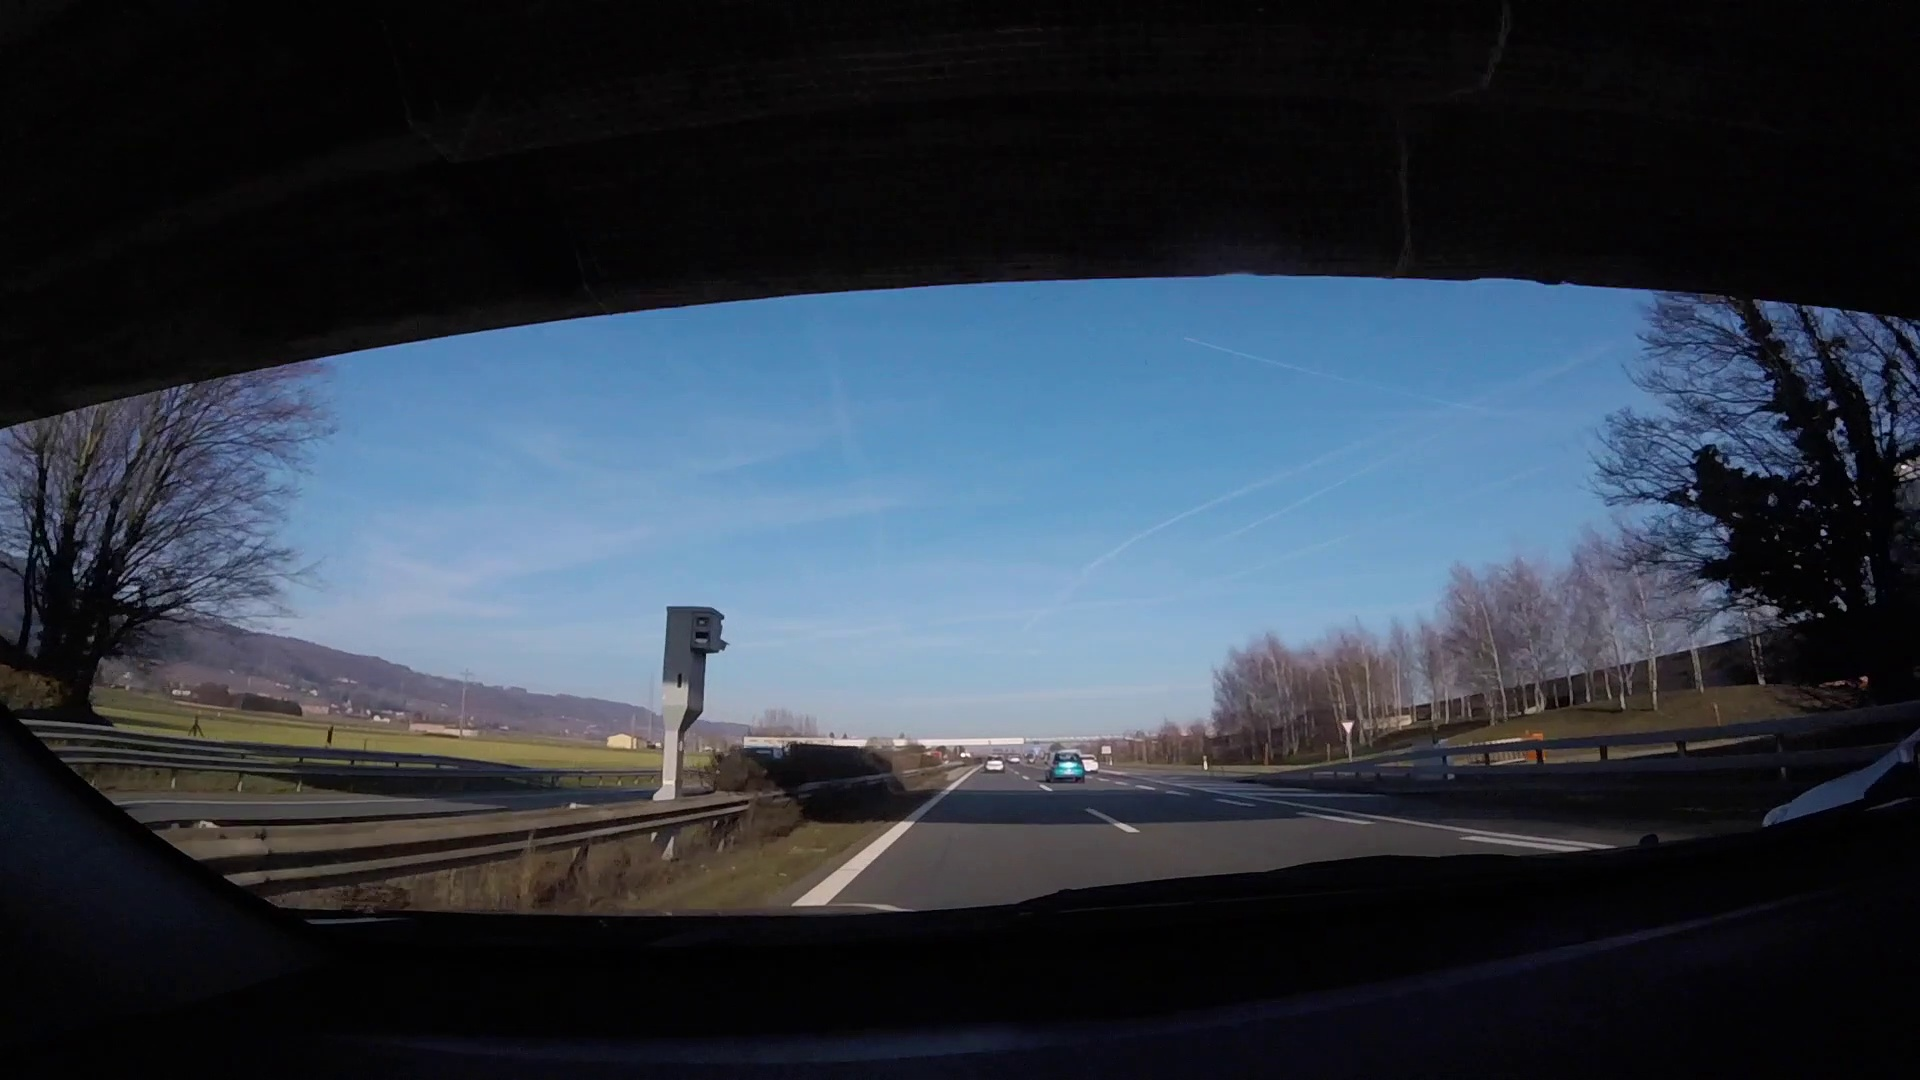radar: (661, 604, 729, 786)
